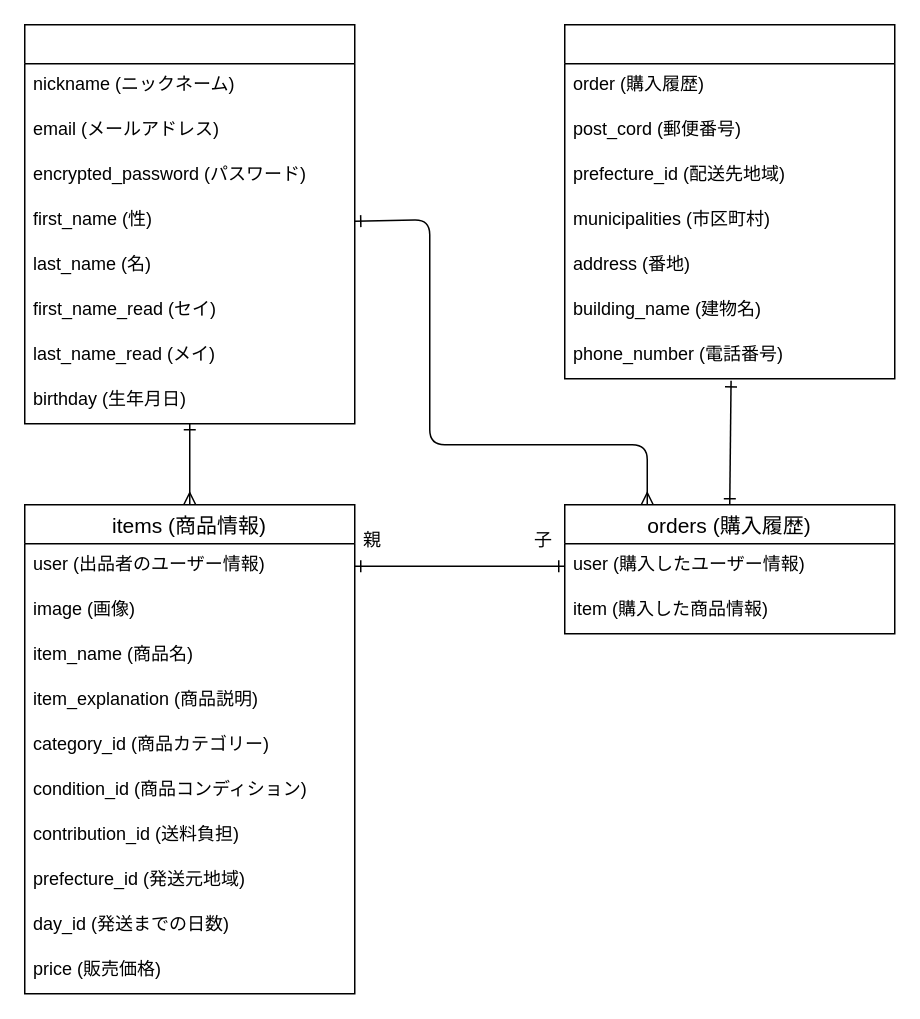
This 920x1019 diagram has some shape labels left out. Here are the shapes that lost their labels. From the top down, the box of each, then its label:
(563, 23, 895, 379): addresses (購入者情報)
(23, 23, 355, 424): user (ユーザー情報)
